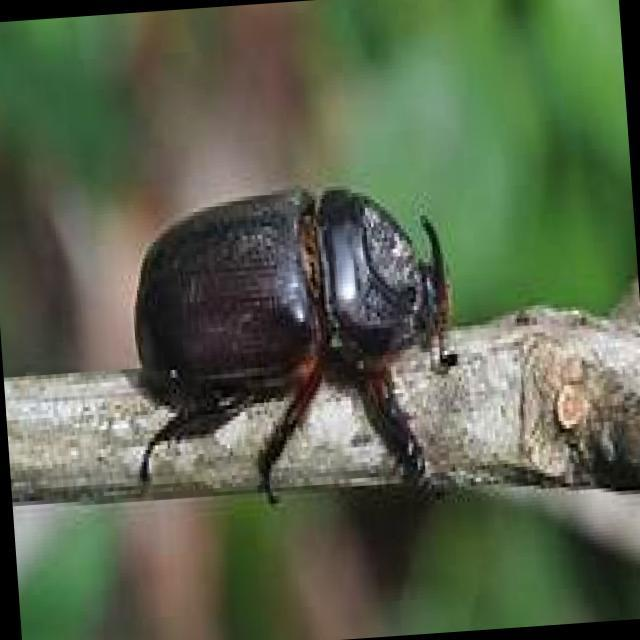Rhino-beetle: (110, 160, 487, 504)
